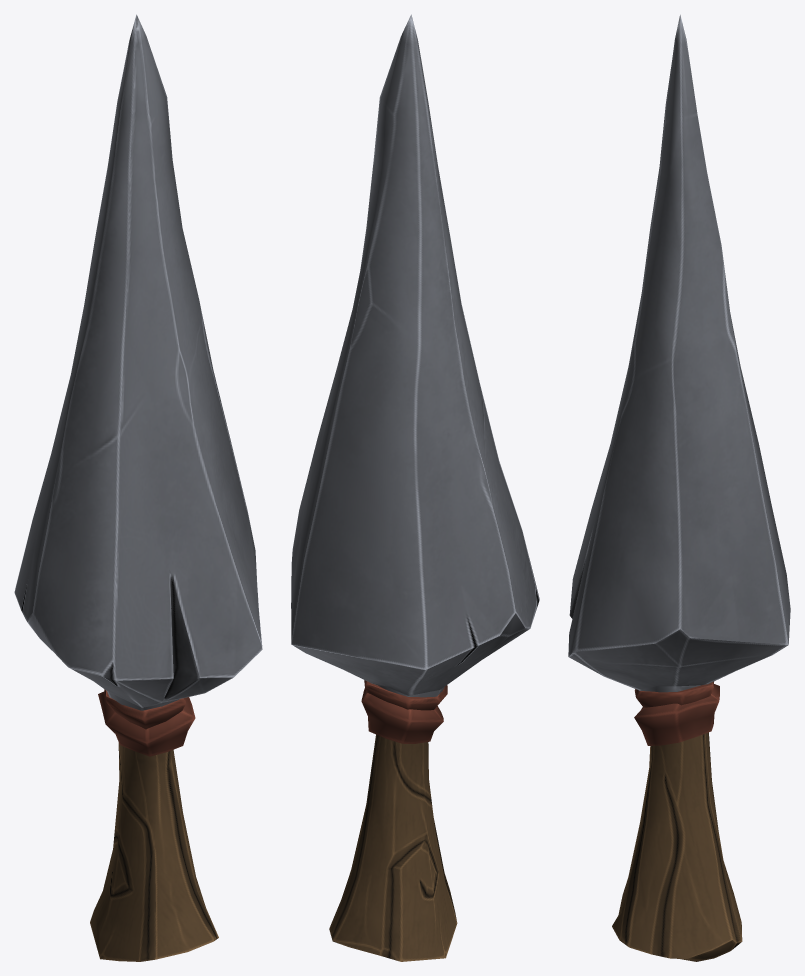
File: spike.glb
The picture shows the model from 3 angles, left to right: view 1: azimuth 30°, elevation 25°; view 2: azimuth 150°, elevation 25°; view 3: azimuth 270°, elevation 25°; orthographic projection.
Visible parts, largest first — view 1: node_id30; view 2: node_id30; view 3: node_id30.
Boxes of the visible parts, x1,y1,x2,y2 form: node_id30: (14,14,262,961); node_id30: (291,14,539,961); node_id30: (568,14,790,961).
Bounding box in the file's own units: 0.127 × 0.512 × 0.111.
Materials: 1 (1 with a texture image).
